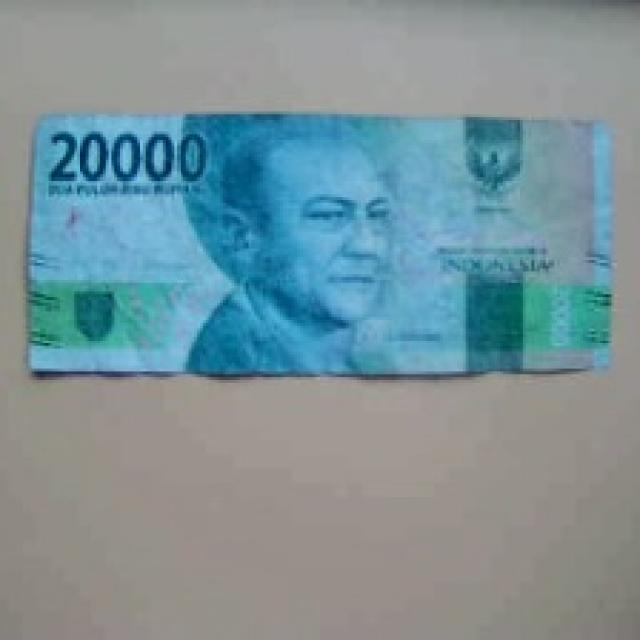dua puluh ribu rupiah: (24, 90, 633, 367)
